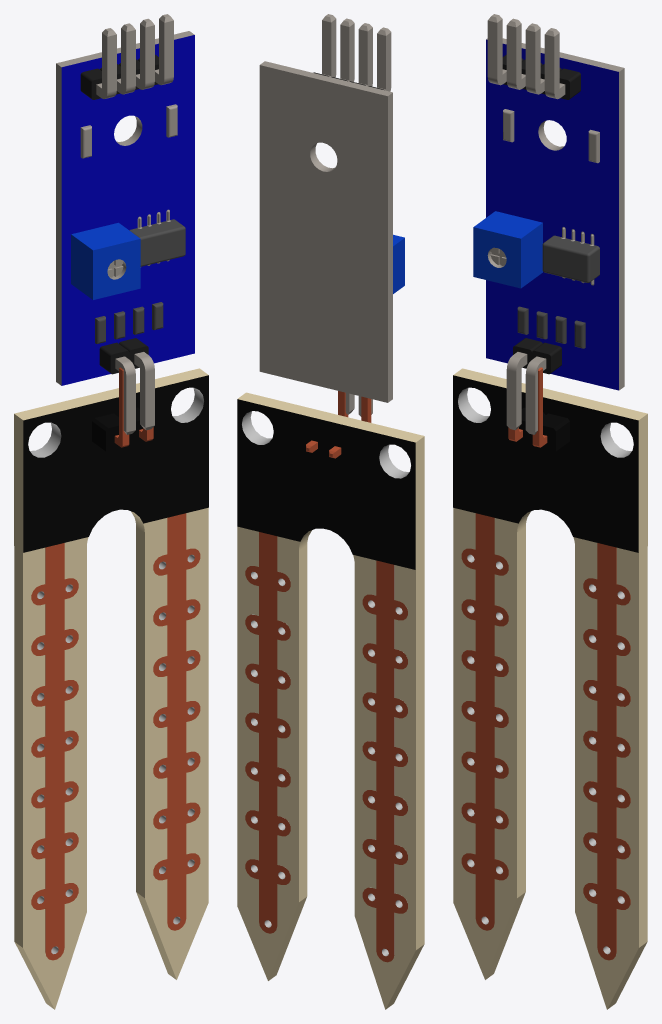
The model's file is Sensor Complete v2.obj.
The picture shows the model from 3 angles, left to right: view 1: azimuth 30°, elevation 25°; view 2: azimuth 150°, elevation 25°; view 3: azimuth 330°, elevation 25°; orthographic projection. The views are drawn at different scales.
Visible parts, largest first — view 1: Solid1, Solid1:1; view 2: Solid1, Solid1:1; view 3: Solid1, Solid1:1.
Part boxes in pixels (left/top/right/bottom): Solid1: left=14, top=367, right=208, bottom=1009; Solid1:1: left=56, top=14, right=194, bottom=434; Solid1: left=237, top=391, right=424, bottom=1009; Solid1:1: left=259, top=14, right=404, bottom=416; Solid1: left=453, top=367, right=647, bottom=1009; Solid1:1: left=473, top=14, right=624, bottom=434.
Size of the model in its own units: 19.5 by 99.29 by 7.49.
